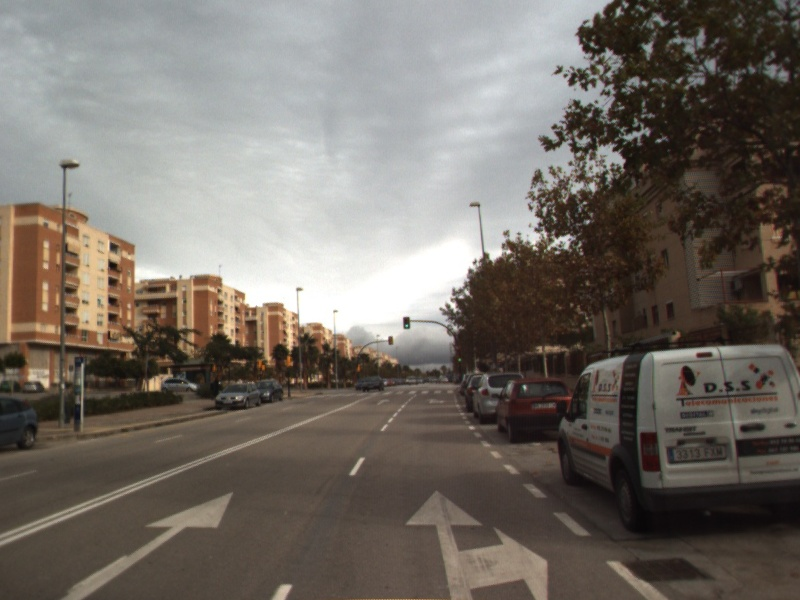STRAIGHT: (56, 490, 235, 600)
STRAIGHT_RIGHT: (403, 487, 551, 600)
